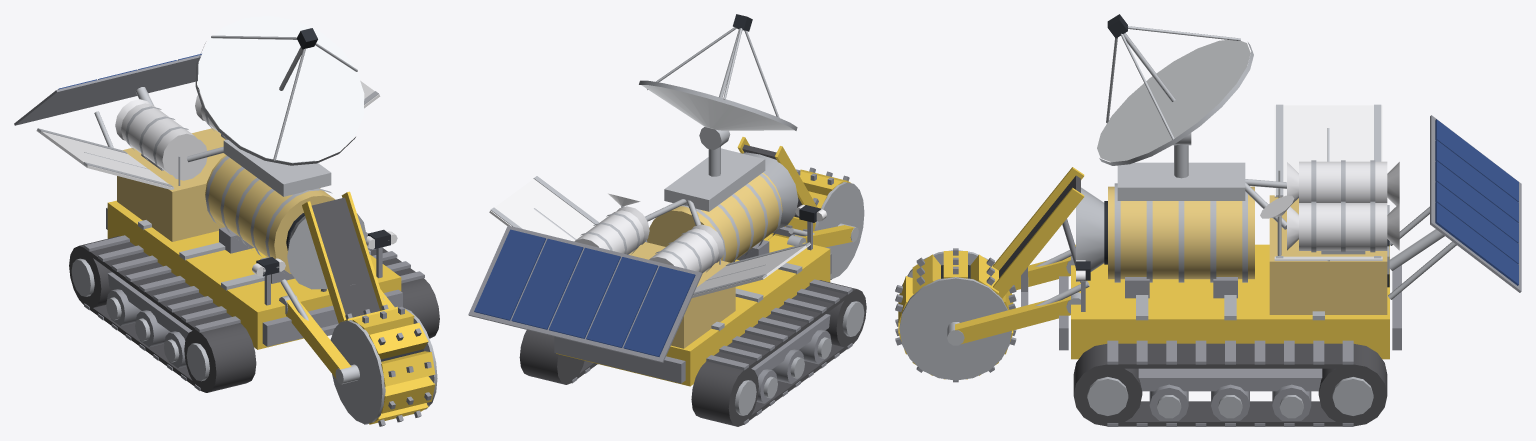
Rendered from extractor_helio3.glb.
3 renders of one model, left to right at view 1: azimuth 30°, elevation 25°; view 2: azimuth 150°, elevation 25°; view 3: azimuth 270°, elevation 25°, orthographic. The views are drawn at different scales.
Visible parts, largest first — view 1: Colector_Solar, Oruga_Izquierda, Chasis, Tolva_Cinta, Rueda_Cangilones, Tambor_Calentador, Modulo_Electronico, Tanques_Helio3, Panel_Solar, Radiadores, Oruga_Derecha, Brazo_Excavador (+1 smaller); view 2: Panel_Solar, Oruga_Izquierda, Chasis, Tolva_Cinta, Radiadores, Tambor_Calentador, Colector_Solar, Tanques_Helio3, Rueda_Cangilones, Modulo_Electronico, Oruga_Derecha, Brazo_Excavador (+1 smaller); view 3: Oruga_Derecha, Chasis, Tambor_Calentador, Colector_Solar, Panel_Solar, Tolva_Cinta, Rueda_Cangilones, Tanques_Helio3, Modulo_Electronico, Radiadores, Brazo_Excavador, Sensores_Antena.
Part boxes in pixels (<box>): Colector_Solar: <box>195,16,364,165</box>; Oruga_Izquierda: <box>69,235,256,392</box>; Chasis: <box>106,200,402,349</box>; Tolva_Cinta: <box>223,139,385,335</box>; Rueda_Cangilones: <box>330,304,437,426</box>; Tambor_Calentador: <box>205,155,335,273</box>; Modulo_Electronico: <box>117,128,225,241</box>; Tanques_Helio3: <box>115,92,231,180</box>; Panel_Solar: <box>14,53,201,147</box>; Radiadores: <box>36,80,380,189</box>; Oruga_Derecha: <box>366,232,439,338</box>; Brazo_Excavador: <box>279,279,394,378</box>; Panel_Solar: <box>468,225,702,362</box>; Oruga_Izquierda: <box>691,279,866,426</box>; Chasis: <box>554,234,831,386</box>; Tolva_Cinta: <box>664,137,817,236</box>; Radiadores: <box>489,176,810,297</box>; Tambor_Calentador: <box>647,173,782,262</box>; Colector_Solar: <box>639,14,797,149</box>; Tanques_Helio3: <box>574,199,724,273</box>; Rueda_Cangilones: <box>771,167,864,279</box>; Modulo_Electronico: <box>629,242,735,348</box>; Oruga_Derecha: <box>519,240,647,384</box>; Brazo_Excavador: <box>787,225,854,247</box>; Oruga_Derecha: <box>1073,340,1387,426</box>; Chasis: <box>1059,244,1401,359</box>; Tambor_Calentador: <box>1104,183,1254,282</box>; Colector_Solar: <box>1097,14,1253,165</box>; Panel_Solar: <box>1388,115,1521,299</box>; Tolva_Cinta: <box>993,144,1245,306</box>; Rueda_Cangilones: <box>895,248,1016,382</box>; Tanques_Helio3: <box>1245,160,1399,254</box>; Modulo_Electronico: <box>1269,195,1389,314</box>; Radiadores: <box>1274,104,1382,261</box>; Brazo_Excavador: <box>955,250,1089,344</box>; Sensores_Antena: <box>1076,170,1294,311</box>.
Size of the model in its own units: 7.35 by 7.98 by 12.77.
